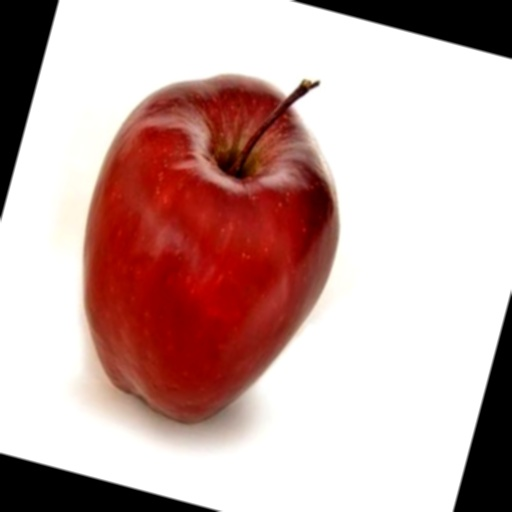fruit: (176, 120, 455, 490)
